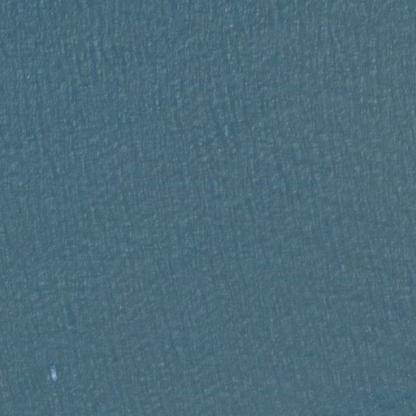ship: (46, 370, 57, 373)
